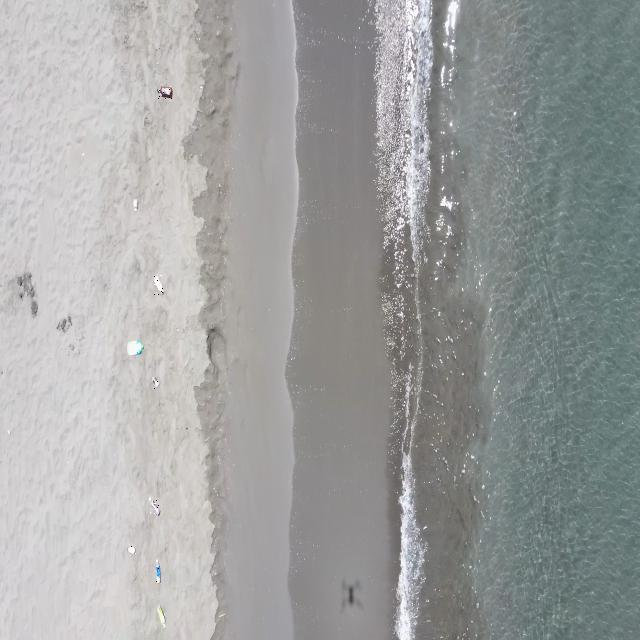Garbage: (127, 340, 143, 355), (152, 275, 163, 293), (148, 496, 158, 515), (158, 85, 172, 98), (156, 606, 164, 627), (155, 560, 160, 583), (151, 375, 159, 387), (132, 198, 138, 211), (128, 544, 135, 552)
